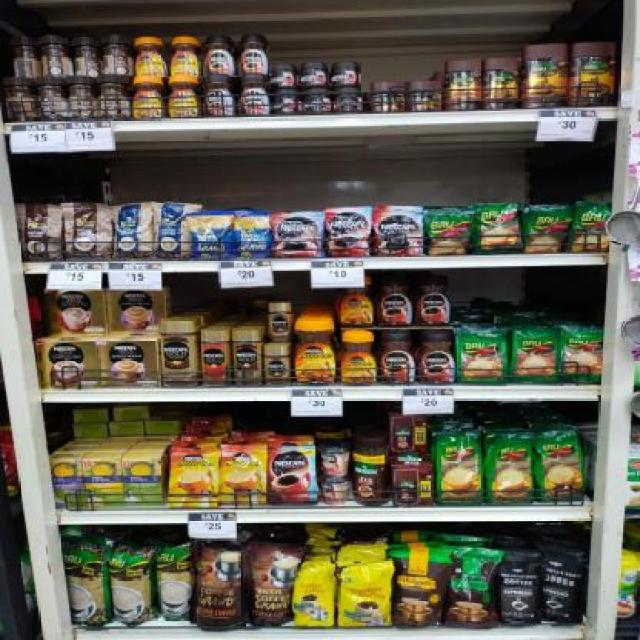Coffee: (218, 447, 265, 504), (169, 451, 216, 506), (295, 322, 336, 383), (159, 320, 196, 386), (271, 448, 314, 503), (374, 210, 424, 256), (326, 210, 370, 256), (275, 214, 320, 257), (376, 277, 413, 326), (340, 333, 374, 384), (381, 333, 416, 382), (418, 277, 452, 326), (339, 279, 373, 327), (421, 334, 454, 383), (130, 76, 164, 119), (234, 330, 261, 384), (238, 73, 270, 116), (202, 74, 233, 117), (169, 76, 199, 118), (204, 34, 234, 75), (135, 37, 167, 75), (238, 34, 268, 74), (170, 36, 200, 76), (265, 345, 289, 384), (269, 302, 291, 340), (333, 89, 362, 113), (300, 62, 326, 87), (331, 61, 358, 85), (271, 90, 298, 114), (304, 90, 331, 112), (271, 64, 295, 88)
